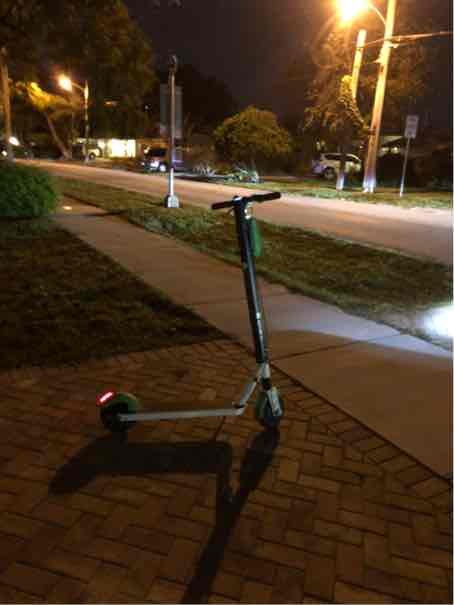scooter: (88, 180, 301, 455)
